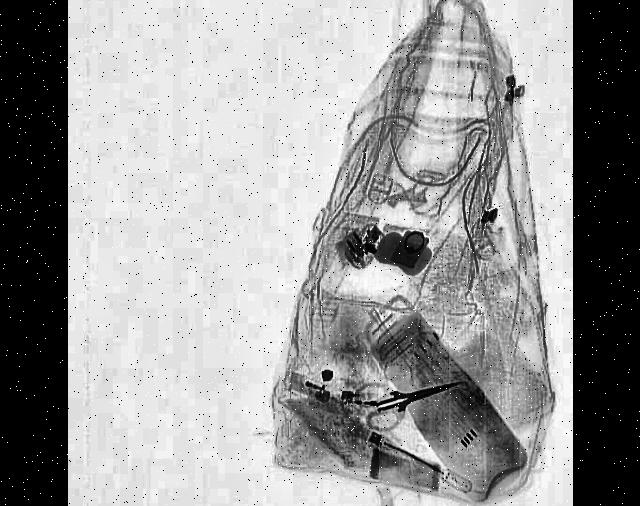Knife: (372, 372, 458, 418)
